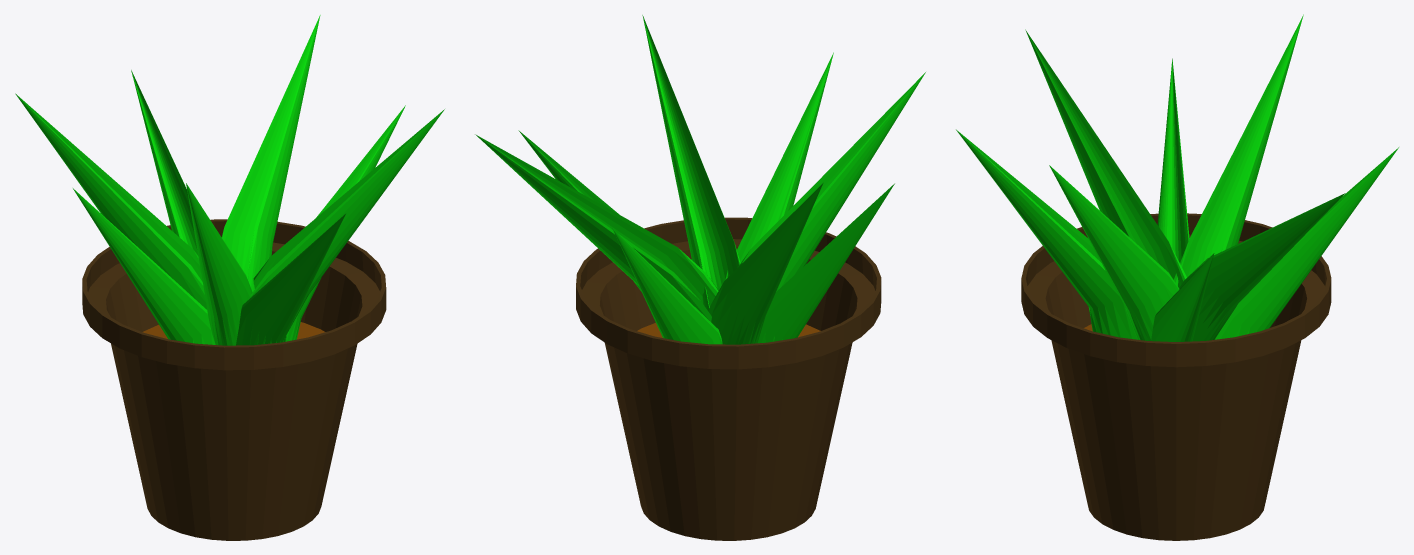
File: Pflanze.glb
3 views of the same model, side by side, from view 1: azimuth 30°, elevation 25°; view 2: azimuth 150°, elevation 25°; view 3: azimuth 270°, elevation 25° (orthographic).
Visible parts, largest first — view 1: Pflanze; view 2: Pflanze; view 3: Pflanze.
Boxes of the visible parts, x1,y1,x2,y2 form: Pflanze: [15, 15, 444, 540]; Pflanze: [475, 15, 925, 540]; Pflanze: [956, 14, 1398, 540].
Bounding box in the file's own units: 0.9377 × 1.02 × 0.9989.
